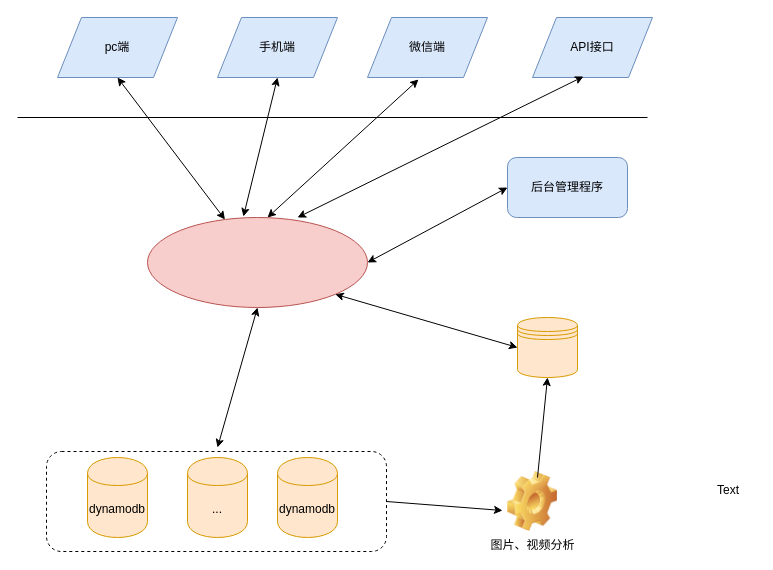
Some shapes in this 773 by 570 pixel diagram are drawn without their labels. The shapes that lost their labels are listed below. From the top down, each one's centre as x and y in pixels, then its label:
[257,262]: 书画作品艺术服务平台
[547,347]: elastic search
